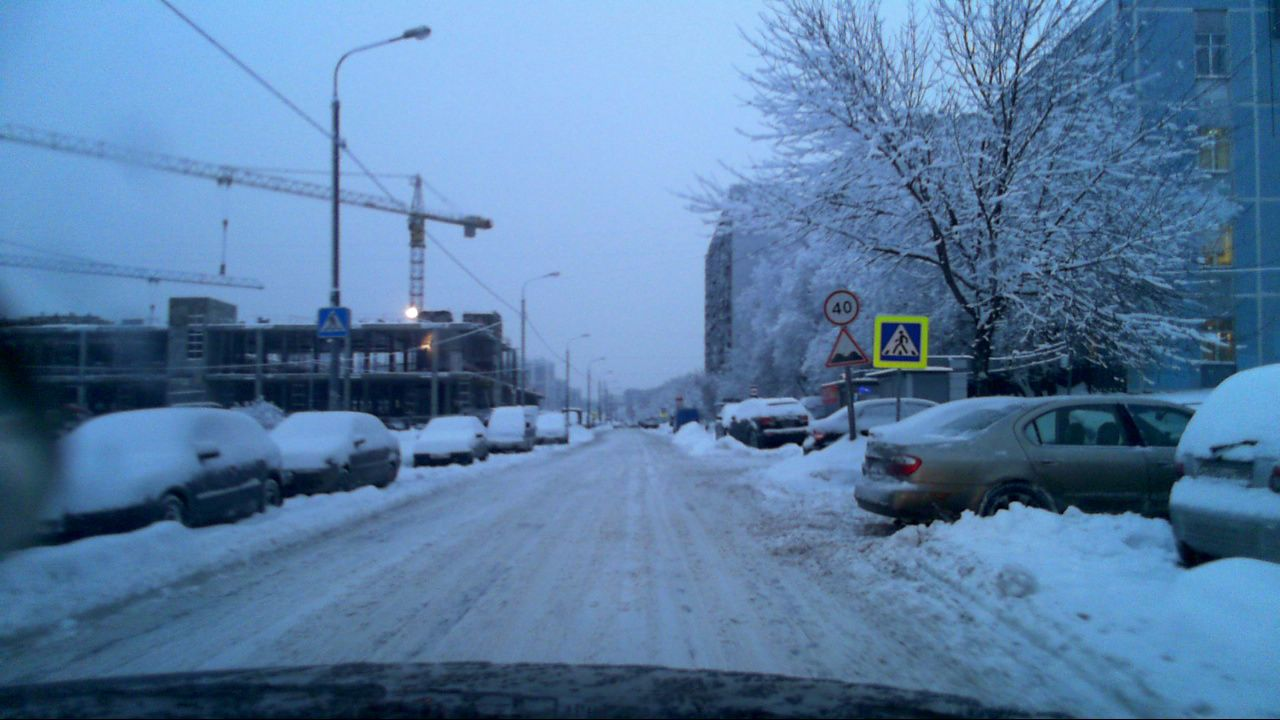speed_warning_40: (825, 288, 859, 324)
